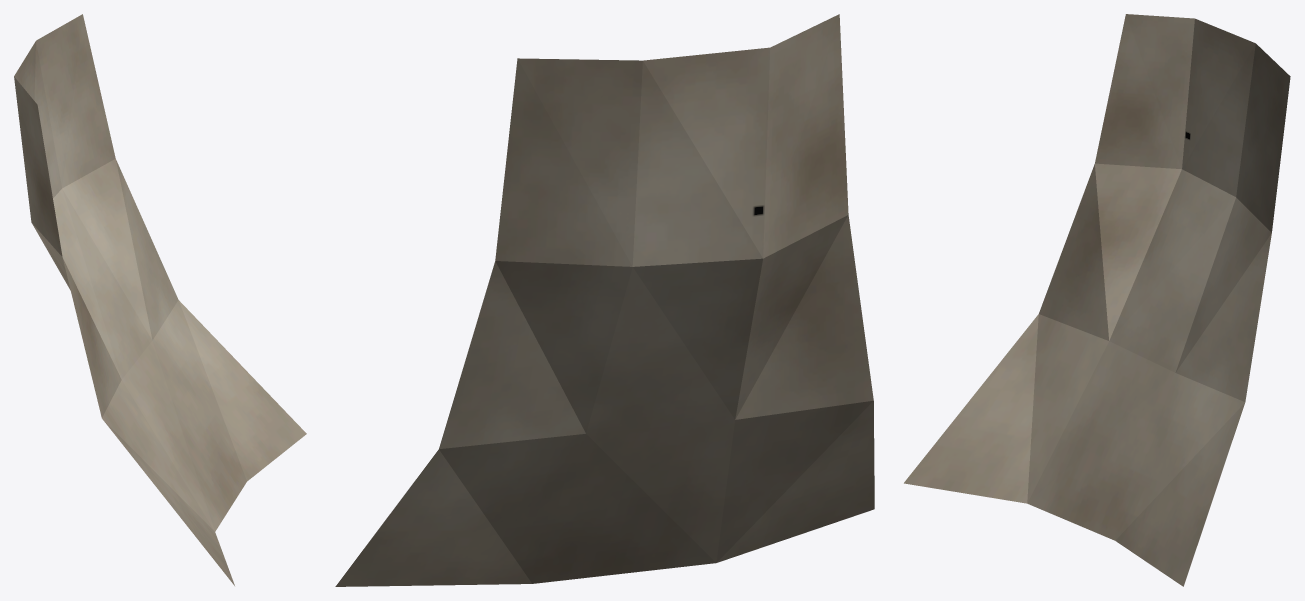
The model's file is web_10.fbx.
The picture shows the model from 3 angles, left to right: view 1: azimuth 30°, elevation 25°; view 2: azimuth 150°, elevation 25°; view 3: azimuth 270°, elevation 25°; orthographic projection. The views are drawn at different scales.
Parts seen in each view (by area): view 1: obj0.171; view 2: obj0.171; view 3: obj0.171.
Boxes of the visible parts, box(x1,y1,x2,y2) form: obj0.171: box(14, 14, 306, 585); obj0.171: box(335, 14, 874, 586); obj0.171: box(904, 14, 1290, 586).
Bounding box in the file's own units: 4.29 × 5.84 × 4.79.
